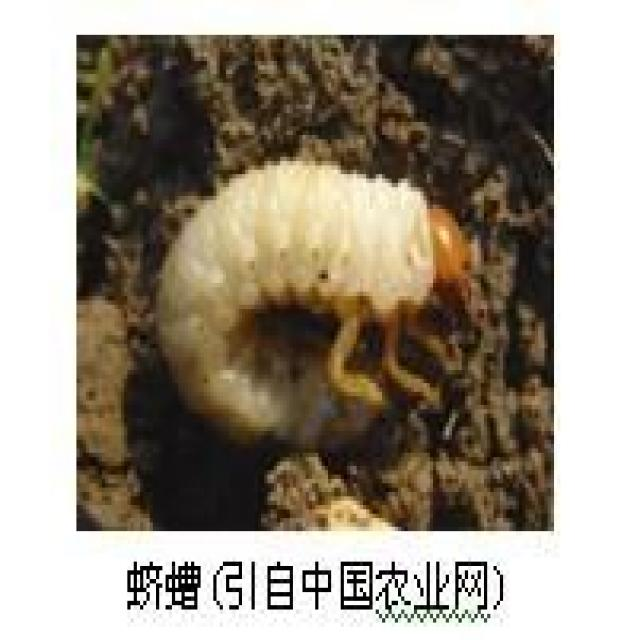Grub-Adult-: (143, 153, 478, 468)
